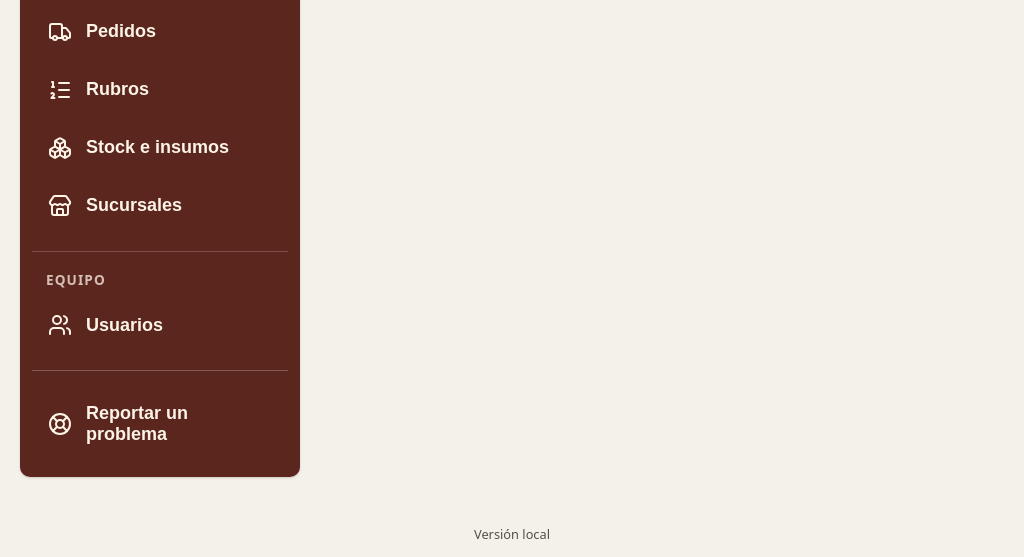
Test case: administración de usuarios › crea una empleada con permiso de caja
The image size is (1024, 557).
(page scrolled)
Click the button "Usuarios" at (160, 325), box [32, 298, 288, 352]
(page scrolled)
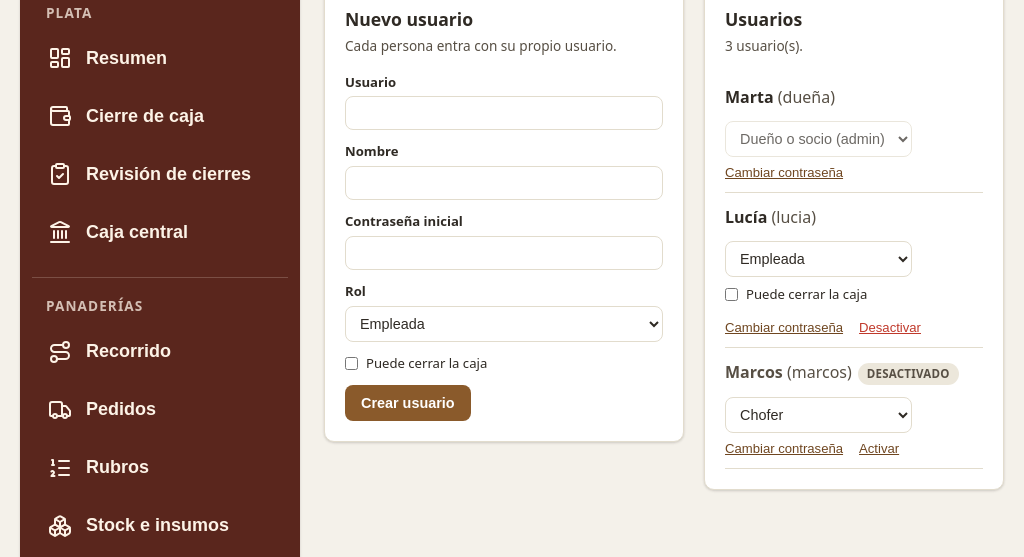
Expected: the text "3 usuario(s)." is shown, [725, 36, 803, 55]
Type "sofi" into the field labelled "Usuario" at (504, 114), box [345, 96, 663, 130]
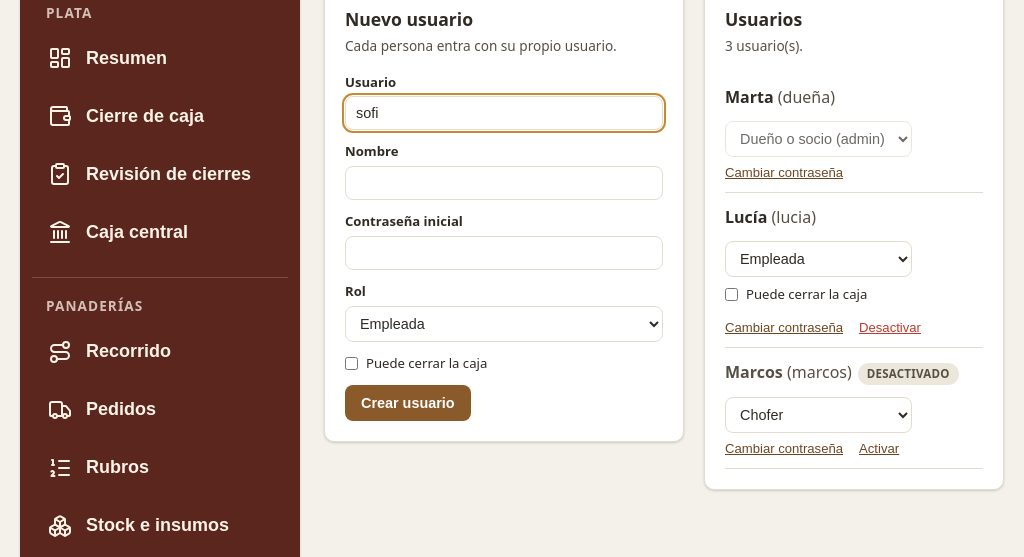
Type "Sofía" into the field labelled "Nombre" at (504, 183), box [345, 166, 663, 200]
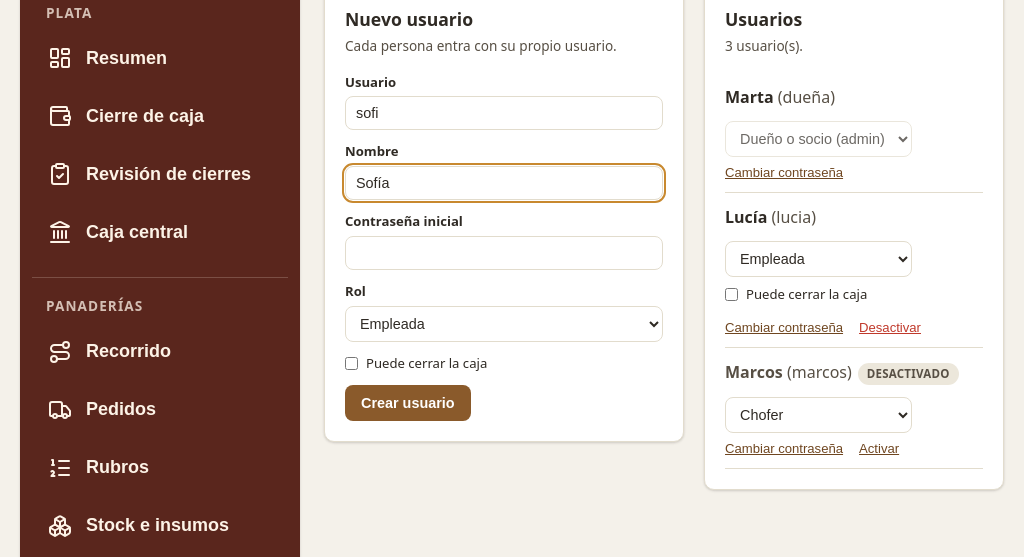
Type "clave-de-sofi" into the password field labelled "Contraseña inicial" at (504, 253), box [345, 236, 663, 270]
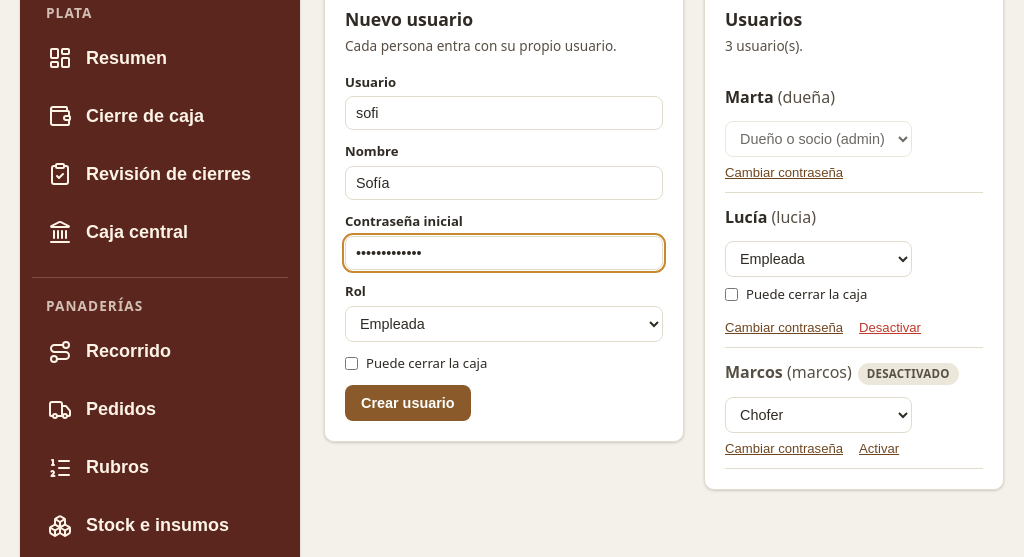
Click the checkbox labelled "Puede cerrar la caja" below "Rol" at (352, 363), box [345, 357, 358, 370]
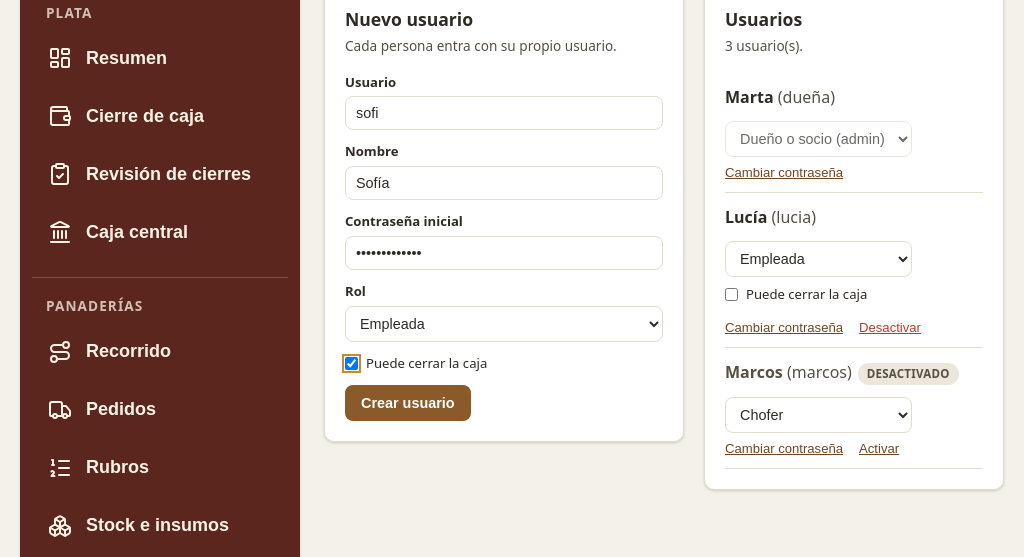
Click the button "Crear usuario" at (408, 403), box [345, 385, 471, 421]
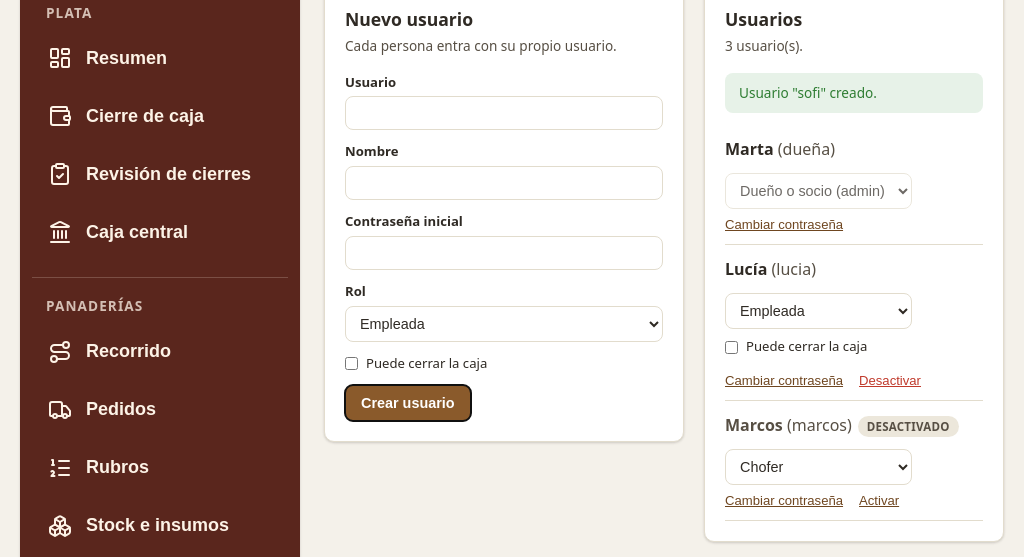
Expected: the text "Usuario \"sofi\" creado." is shown, [725, 73, 983, 113]
Expected: the field labelled "Usuario" is empty, [345, 96, 663, 130]
